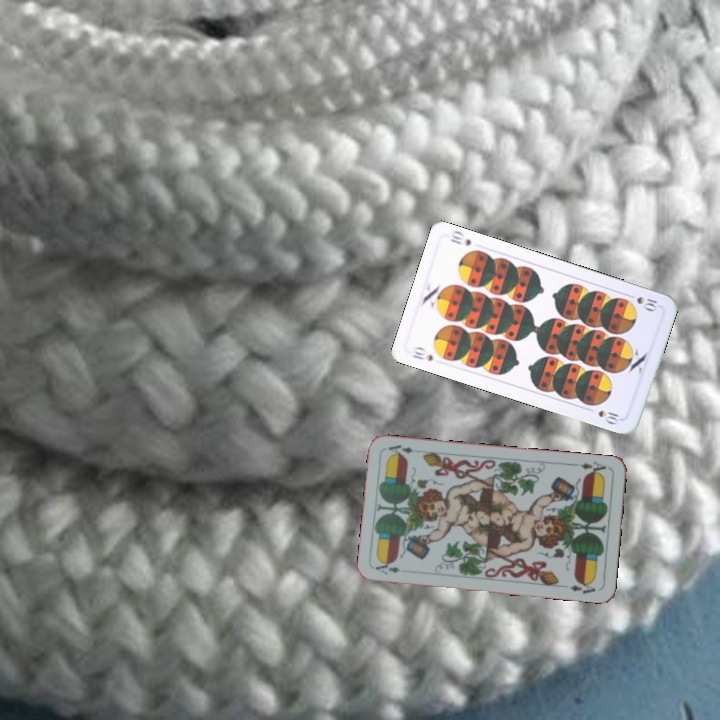EA: (576, 457, 611, 478), (371, 558, 403, 577)
S10: (623, 290, 660, 314), (408, 343, 435, 364)
